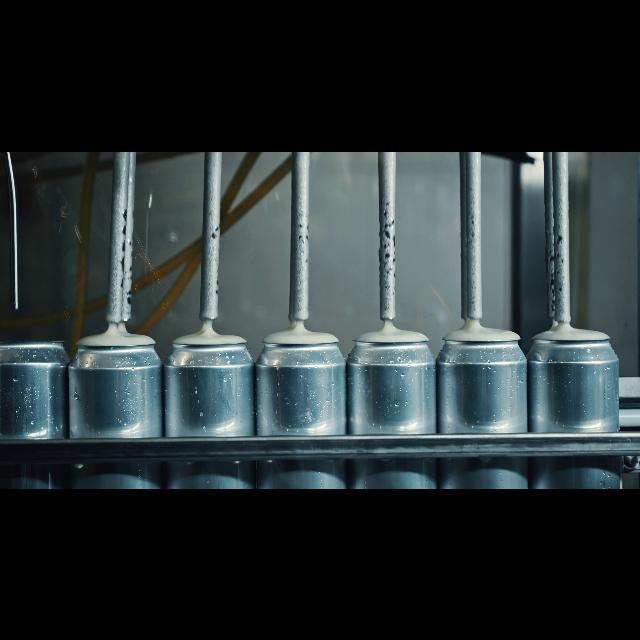empty: (0, 336, 70, 488)
full: (526, 332, 634, 488), (163, 329, 257, 488), (68, 330, 162, 488), (256, 328, 346, 488), (438, 329, 528, 488), (348, 330, 437, 488)
